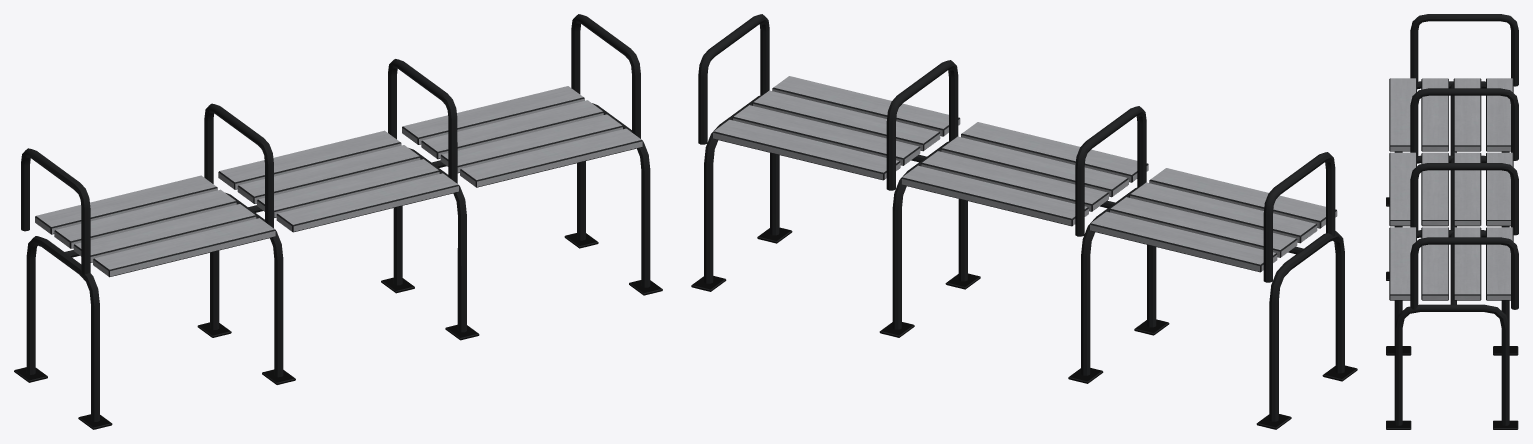
Rendered from gteki_bench_3seat_slat.glb.
3 renders of one model, left to right at view 1: azimuth 30°, elevation 25°; view 2: azimuth 150°, elevation 25°; view 3: azimuth 270°, elevation 25°, orthographic. The views are drawn at different scales.
Parts seen in each view (by area): view 1: VIS_seat, VIS_frame; view 2: VIS_seat, VIS_frame; view 3: VIS_seat, VIS_frame.
Part boxes in pixels (x1=…): VIS_seat: x1=35, y1=86, x2=642, y2=277; VIS_frame: x1=14, y1=14, x2=662, y2=429; VIS_seat: x1=712, y1=76, x2=1337, y2=272; VIS_frame: x1=691, y1=14, x2=1357, y2=429; VIS_seat: x1=1389, y1=78, x2=1513, y2=300; VIS_frame: x1=1386, y1=14, x2=1518, y2=429.
Size of what is drawn, in the model's own units: 1.74 by 0.6624 by 0.4223.
3 materials, 1 textured.
